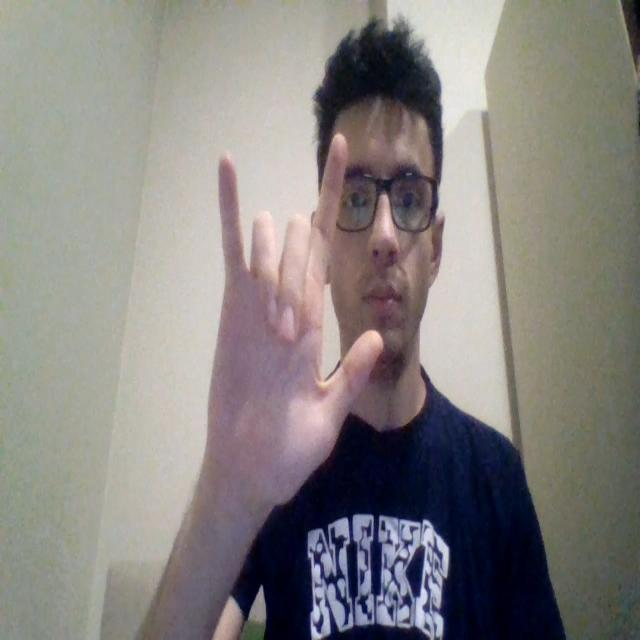iloveyou: (202, 134, 384, 524)
